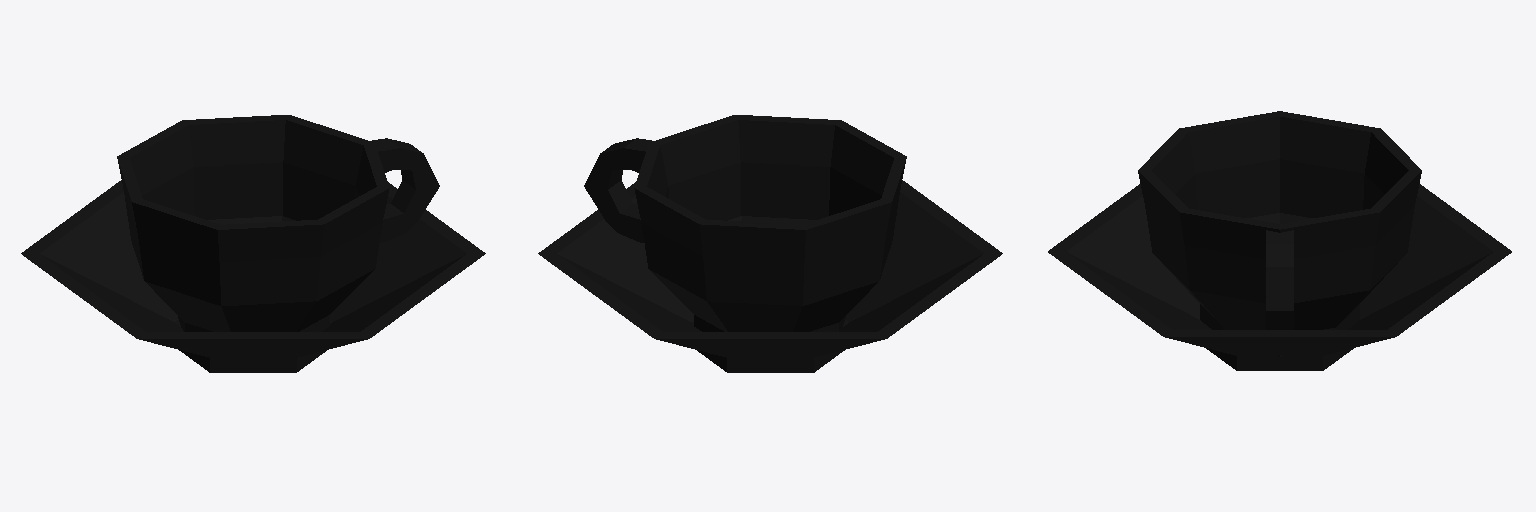
The model's file is CupTea1.obj.
3 views of the same model, side by side, from view 1: azimuth 30°, elevation 25°; view 2: azimuth 150°, elevation 25°; view 3: azimuth 270°, elevation 25° (orthographic).
Visible parts, largest first — view 1: CupTea1_Cube.023; view 2: CupTea1_Cube.023; view 3: CupTea1_Cube.023.
Boxes of the visible parts, x1,y1,x2,y2 form: CupTea1_Cube.023: [21, 115, 485, 372]; CupTea1_Cube.023: [538, 115, 1002, 372]; CupTea1_Cube.023: [1048, 111, 1511, 370].
Bounding box in the file's own units: 0.2123 × 0.0965 × 0.2415.